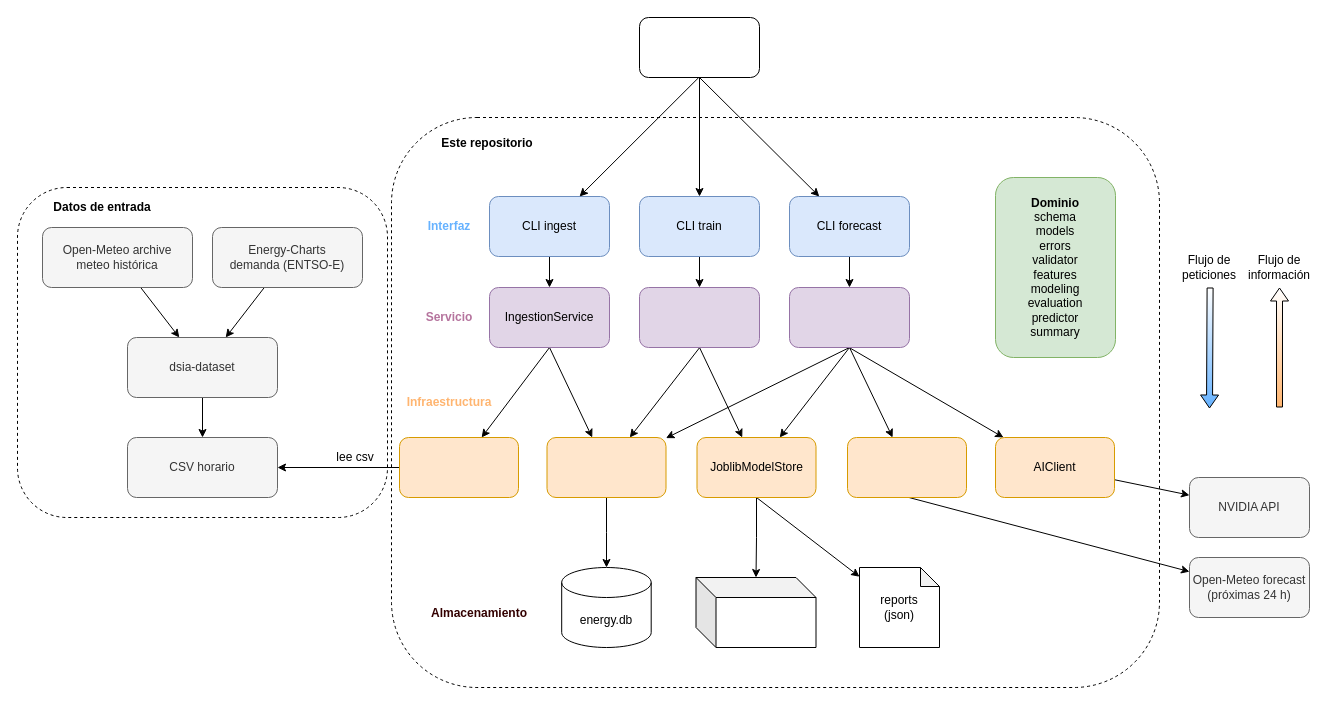
The diagram is 1328 pixels wide and 705 high, and some of its shapes have lost their labels. Each missing label, with the box of its shape:
CsvSatasetSource: (398, 436, 518, 498)
ForecastService: (788, 286, 910, 348)
model.joblib: (695, 576, 816, 648)
OpenMeteoForecast: (846, 436, 966, 498)
Repositorios SQL: (546, 436, 666, 498)
TrainingService: (638, 286, 760, 348)
Usuario o sistema de negocio: (638, 16, 760, 78)
